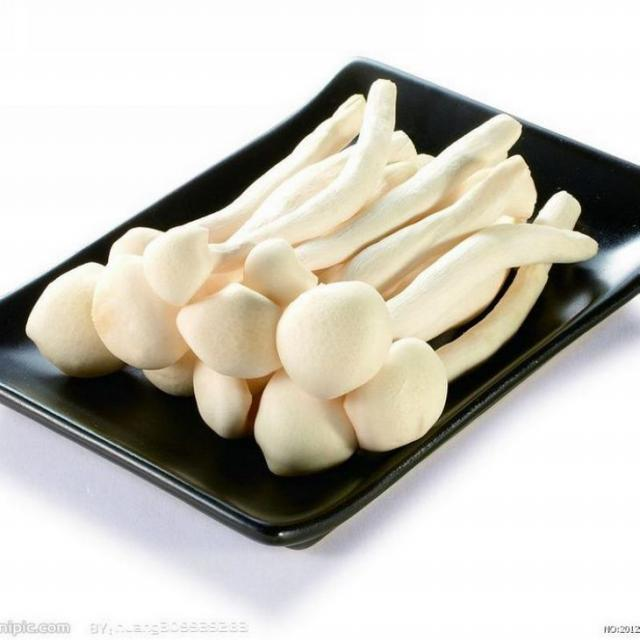Hypsizygus marmoreus: (27, 79, 597, 471)
